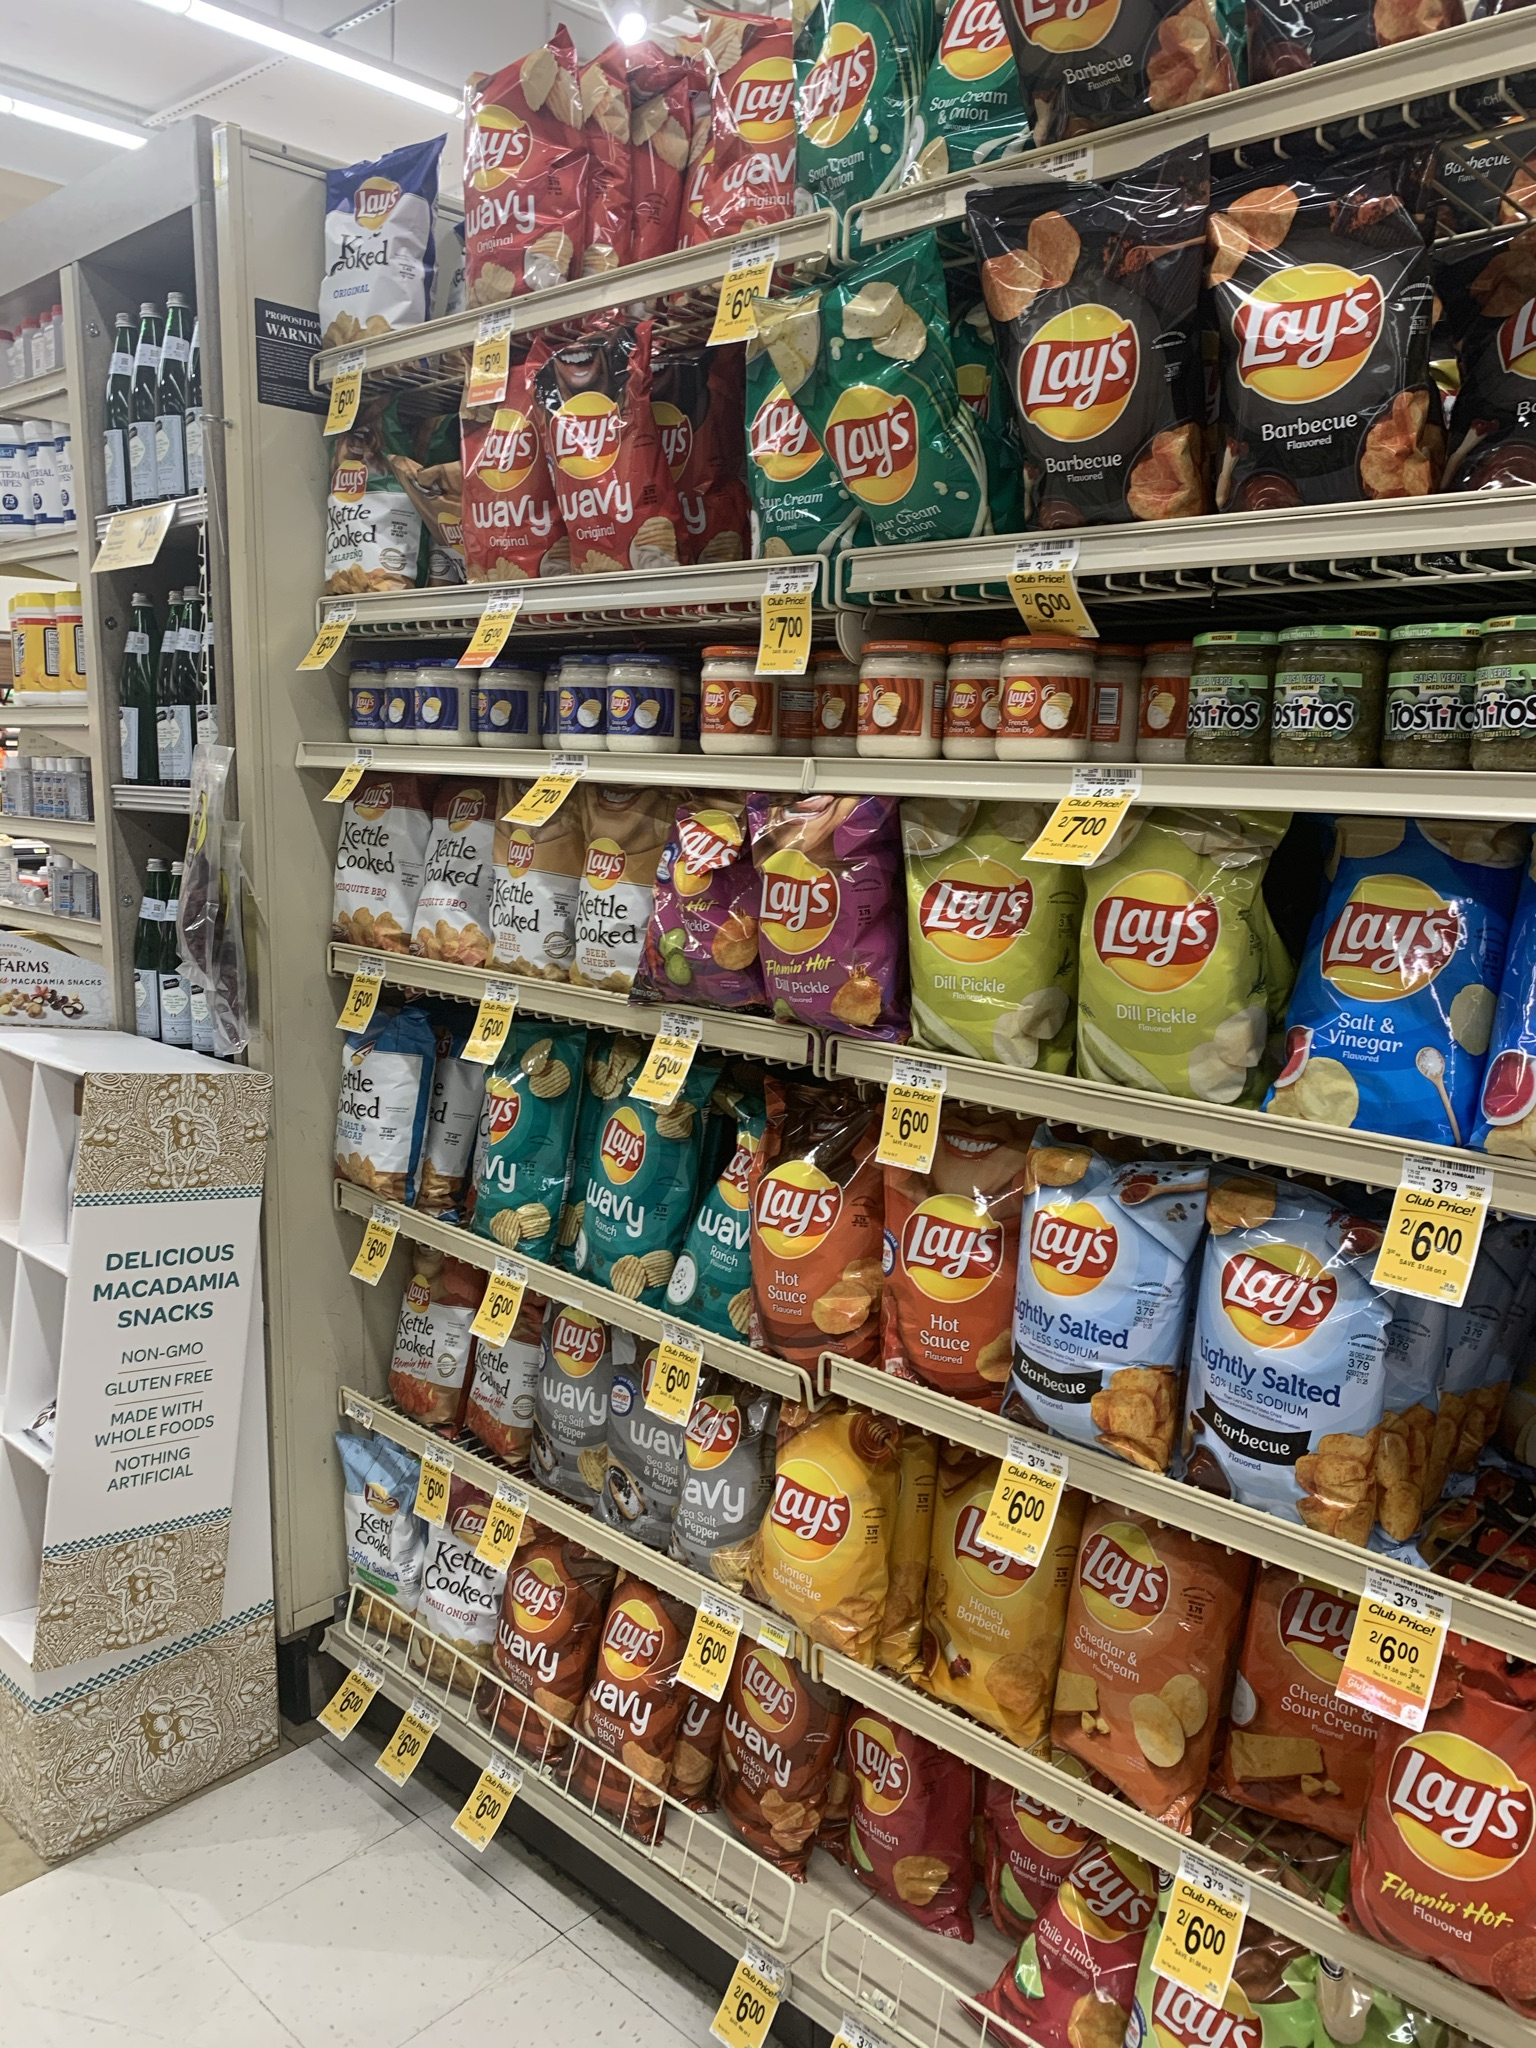chip: (971, 194, 1194, 514), (1204, 189, 1421, 493), (1217, 1192, 1384, 1540), (1004, 1134, 1183, 1451), (773, 256, 973, 535), (1391, 1630, 1536, 1988), (1087, 800, 1252, 1113), (1318, 821, 1473, 1135), (1060, 1496, 1199, 1816), (1221, 1571, 1376, 1837), (899, 805, 1049, 1056), (824, 1672, 973, 1925), (887, 1101, 1005, 1393), (750, 1098, 878, 1359), (753, 792, 887, 1039), (550, 340, 686, 584), (458, 56, 578, 282), (586, 1572, 674, 1851), (470, 1535, 566, 1759), (707, 1640, 808, 1853), (582, 1050, 673, 1288), (694, 8, 791, 231), (803, 13, 912, 198), (463, 1039, 558, 1247), (449, 361, 539, 572), (1021, 2, 1213, 100), (926, 2, 1021, 147)
